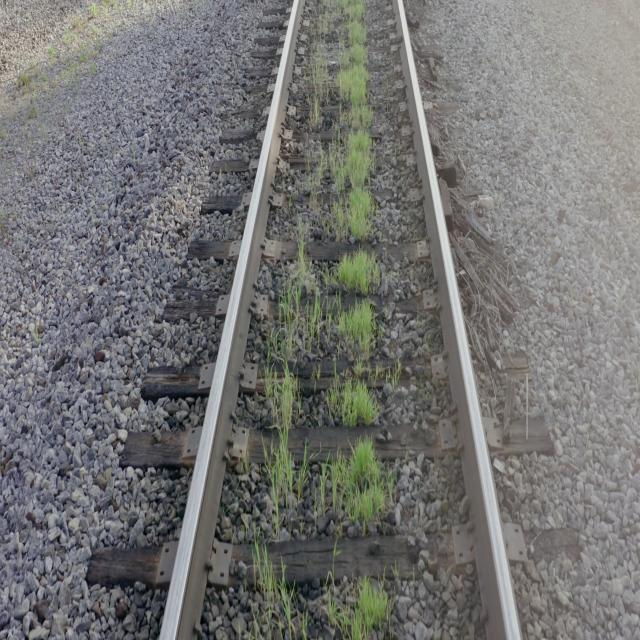Plant: (265, 216, 380, 540), (306, 0, 376, 242), (304, 438, 394, 538), (328, 578, 390, 640), (324, 249, 381, 298), (260, 569, 282, 638), (280, 587, 308, 638)
